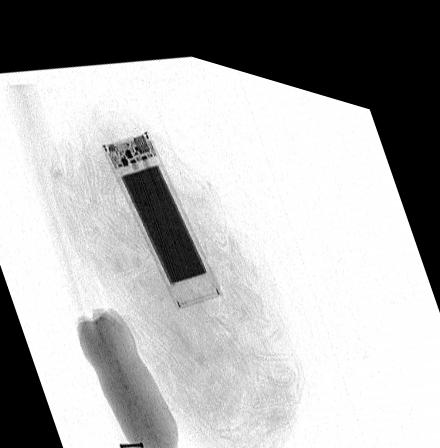Powerbank: (98, 120, 222, 299)
